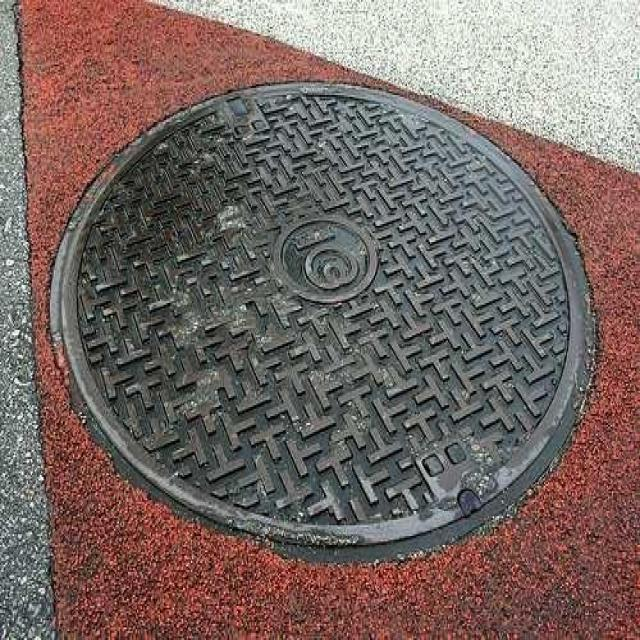manhole: (51, 82, 594, 559)
